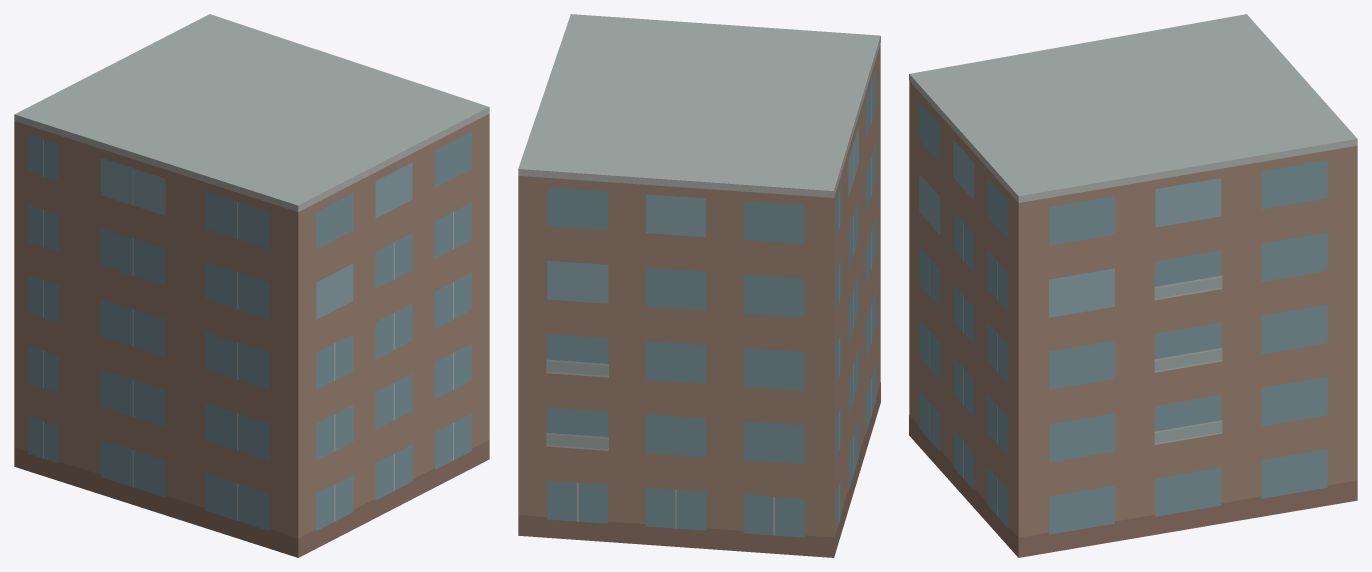
File: survey-upis-33024762.glb
3 renders of one model, left to right at view 1: azimuth 30°, elevation 25°; view 2: azimuth 150°, elevation 25°; view 3: azimuth 270°, elevation 25°, orthographic. The views are drawn at different scales.
Parts seen in each view (by area): view 1: survey-upis-33024762.tmp; view 2: survey-upis-33024762.tmp; view 3: survey-upis-33024762.tmp.
Boxes of the visible parts, left/top/right/bottom form: survey-upis-33024762.tmp: left=14, top=14, right=489, bottom=557; survey-upis-33024762.tmp: left=518, top=14, right=880, bottom=557; survey-upis-33024762.tmp: left=909, top=14, right=1357, bottom=557.
Bounding box in the file's own units: 14.17 × 13.1 × 14.73.
